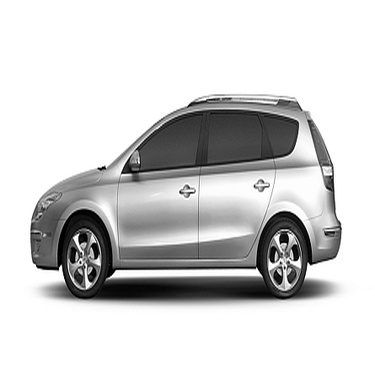car: (22, 86, 345, 303)
